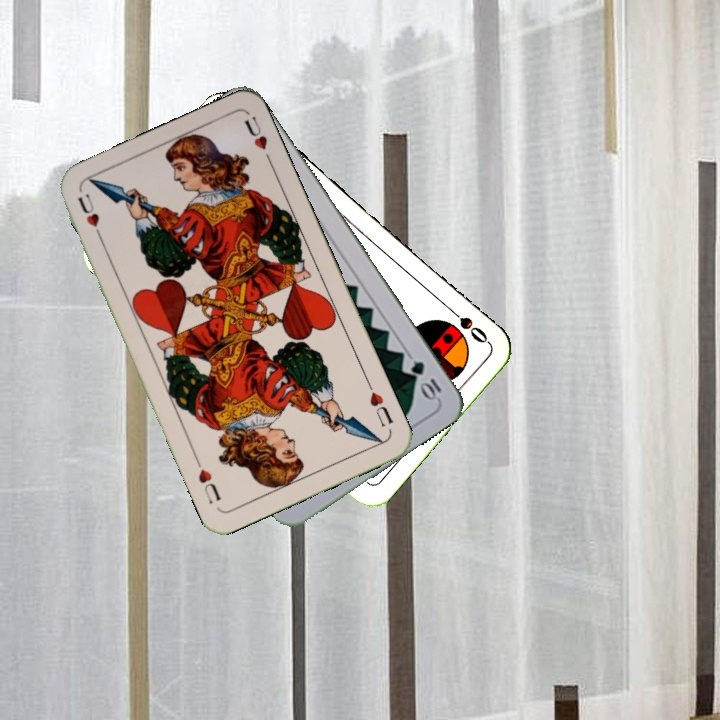G10: (406, 357, 444, 403)
HU: (73, 189, 106, 244), (363, 377, 396, 430)
SO: (443, 302, 492, 346)
